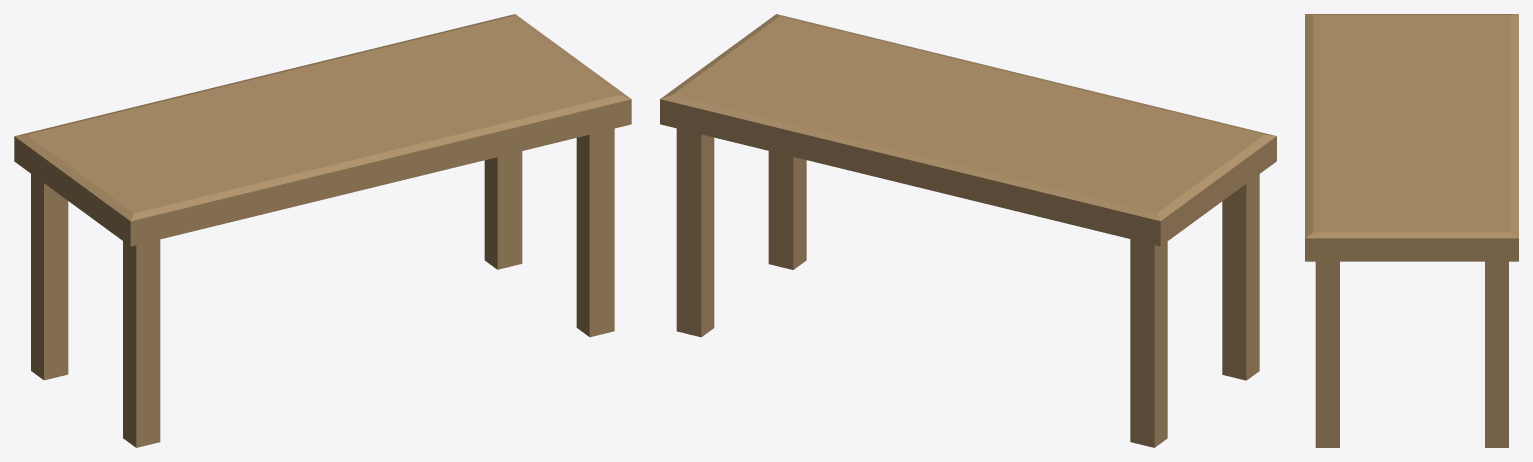
The model's file is rect table.fbx.
The picture shows the model from 3 angles, left to right: view 1: azimuth 30°, elevation 25°; view 2: azimuth 150°, elevation 25°; view 3: azimuth 270°, elevation 25°; orthographic projection. The views are drawn at different scales.
Parts seen in each view (by area): view 1: pCube1; view 2: pCube1; view 3: pCube1.
Part boxes in pixels (left/top/right/bottom): pCube1: left=14, top=14, right=631, bottom=447; pCube1: left=660, top=14, right=1276, bottom=447; pCube1: left=1305, top=14, right=1518, bottom=447.
Bounding box in the file's own units: 2.49 × 1.12 × 1.
